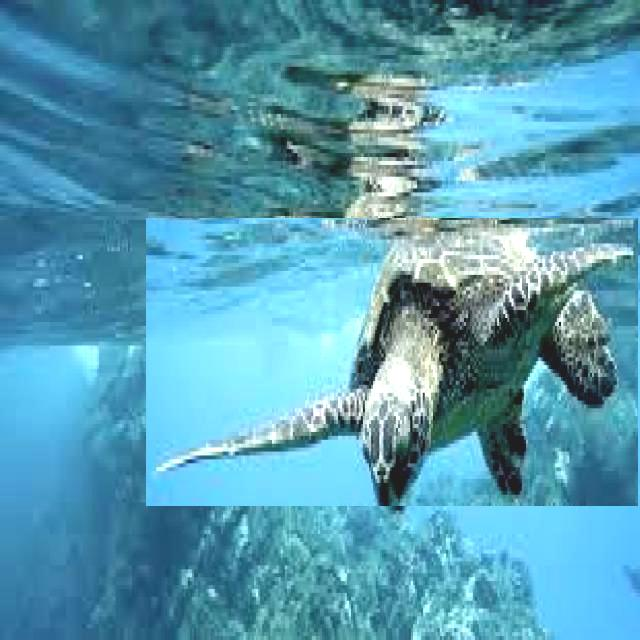Sea turtle: (146, 218, 638, 506)
